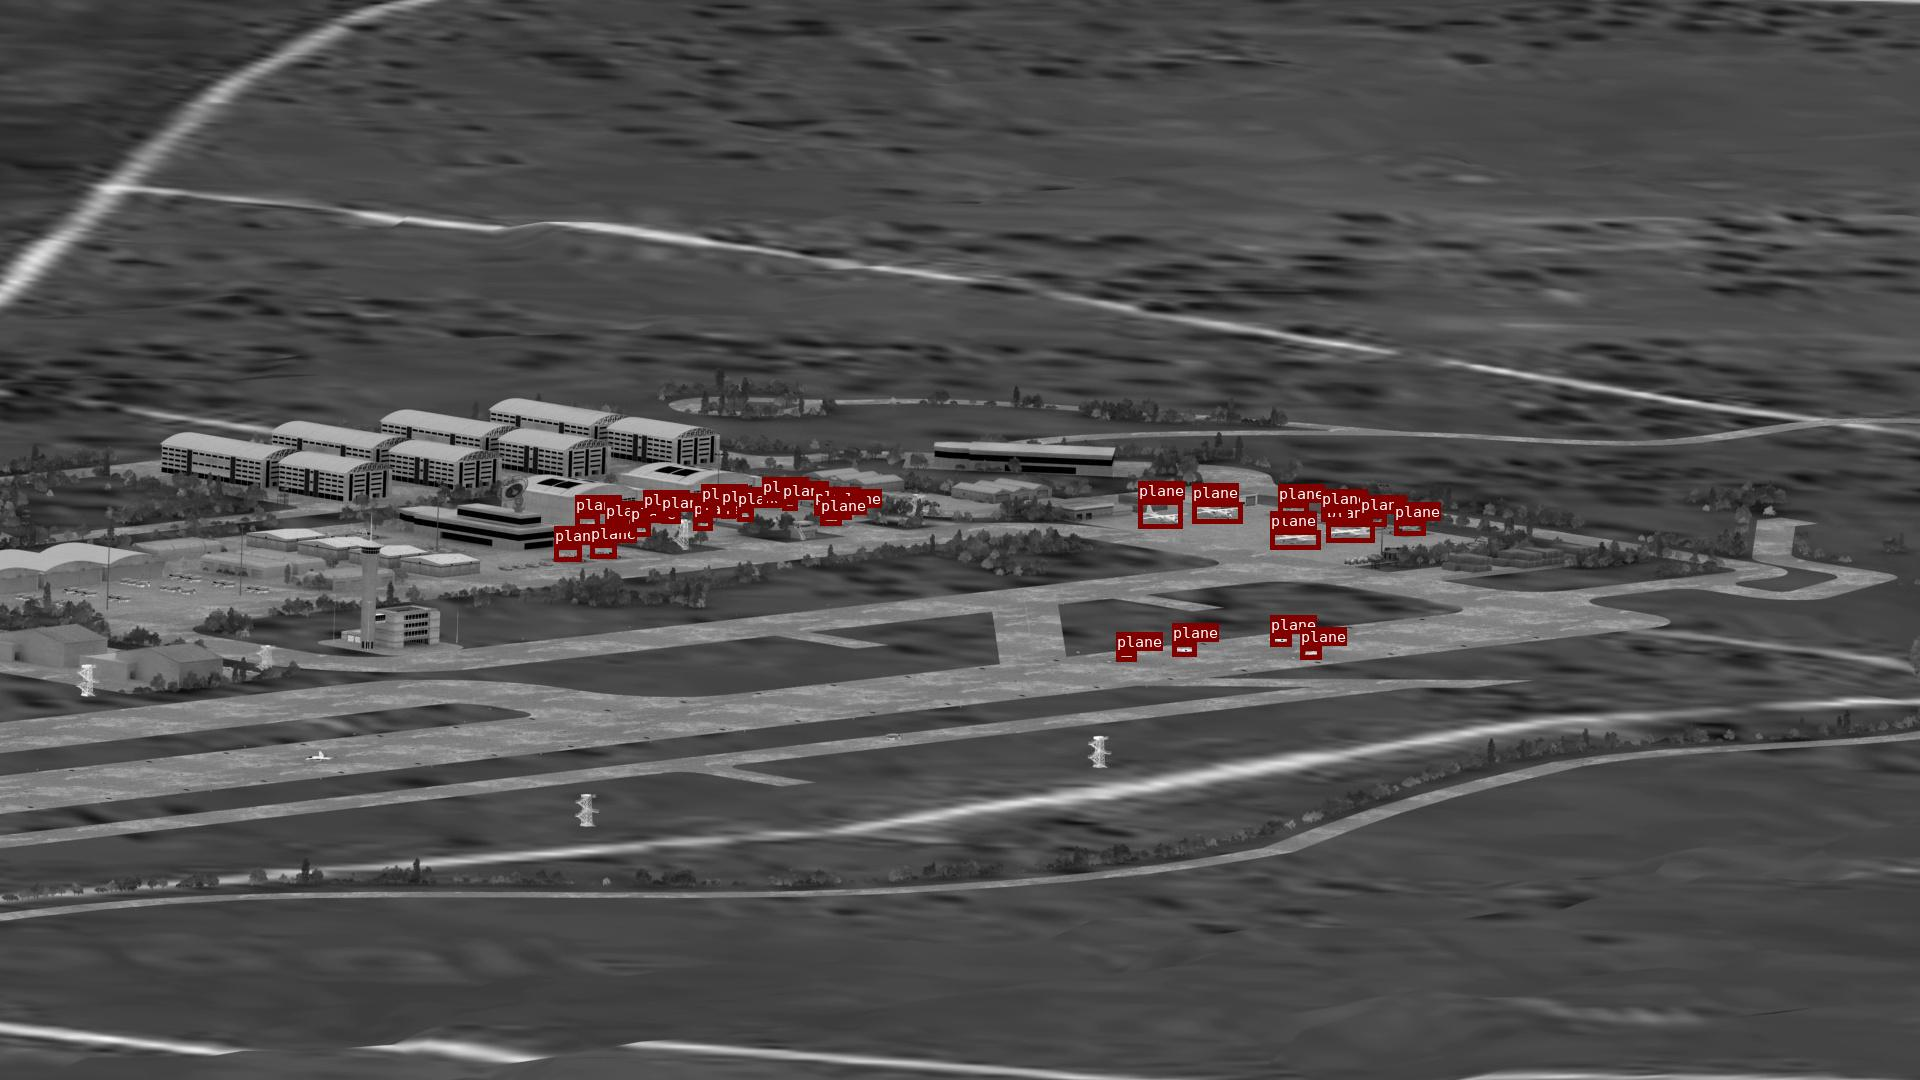plane: (1138, 500, 1182, 527), (1192, 502, 1242, 524), (1327, 522, 1374, 542), (1270, 530, 1320, 549), (1394, 521, 1425, 535), (1278, 502, 1308, 517), (554, 545, 582, 560), (589, 543, 616, 558), (1321, 508, 1346, 521), (1172, 642, 1196, 655), (1360, 514, 1386, 526), (575, 514, 599, 527), (1300, 646, 1321, 659), (605, 520, 628, 531), (1270, 634, 1291, 646), (630, 524, 650, 535), (661, 512, 680, 524), (694, 518, 712, 530), (737, 508, 753, 521), (762, 496, 781, 506), (820, 516, 841, 525), (835, 508, 851, 520), (1116, 651, 1135, 661), (702, 502, 716, 514), (644, 509, 659, 520), (721, 506, 735, 518), (782, 500, 796, 510), (814, 506, 829, 516)
